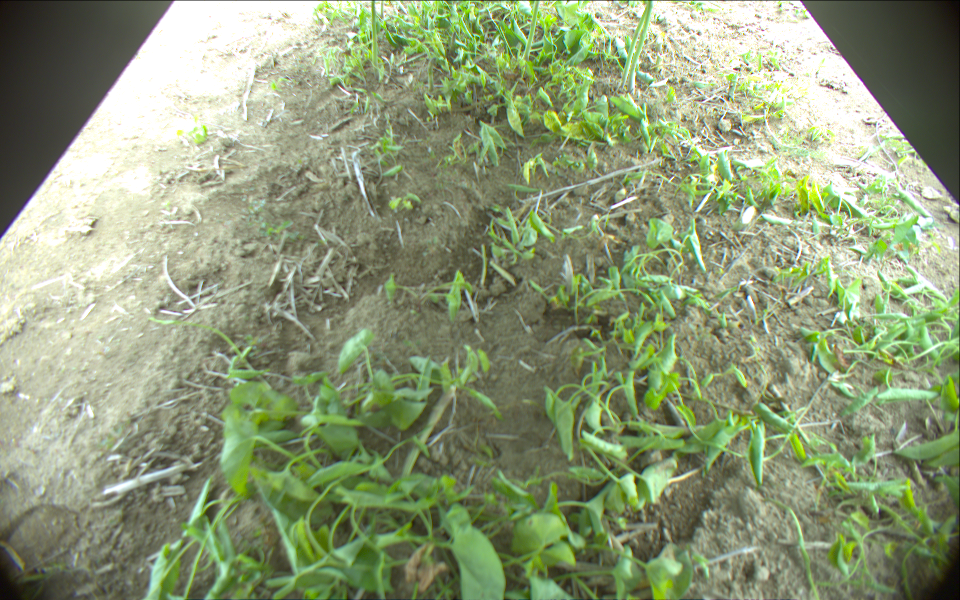aspa: (399, 377, 465, 487), (628, 1, 653, 94), (620, 1, 647, 87), (522, 1, 541, 63), (364, 1, 379, 69), (377, 1, 386, 19)
